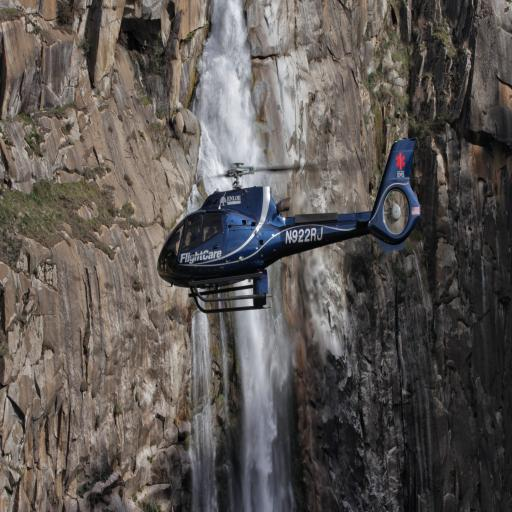helicopter: (155, 109, 432, 330)
